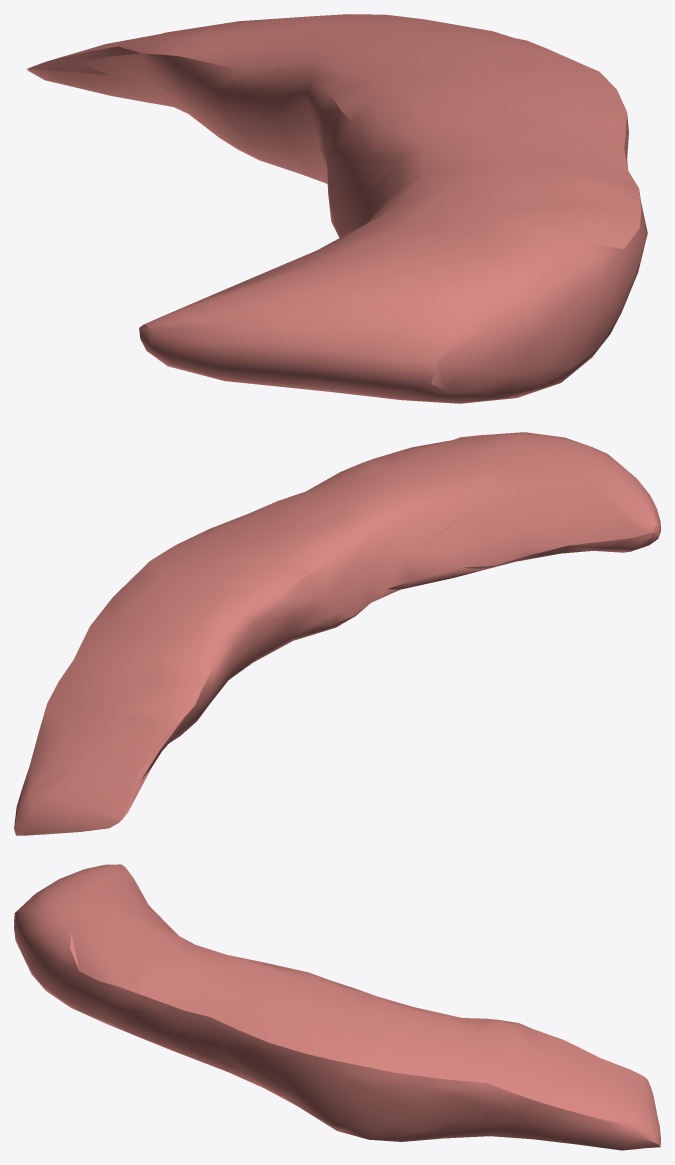
File: fma299401_mm1772m.glb
The picture shows the model from 3 angles, top to bottom: view 1: azimuth 30°, elevation 25°; view 2: azimuth 150°, elevation 25°; view 3: azimuth 270°, elevation 25°; orthographic projection. The views are drawn at different scales.
Parts seen in each view (by area): view 1: FMA299401_MM1772M; view 2: FMA299401_MM1772M; view 3: FMA299401_MM1772M.
Part boxes in pixels (x1=…): FMA299401_MM1772M: x1=27, y1=14, x2=647, y2=403; FMA299401_MM1772M: x1=14, y1=432, x2=660, y2=835; FMA299401_MM1772M: x1=14, y1=864, x2=660, y2=1150.
Size of the model in its own units: 0.0258 by 0.0121 by 0.0422.
